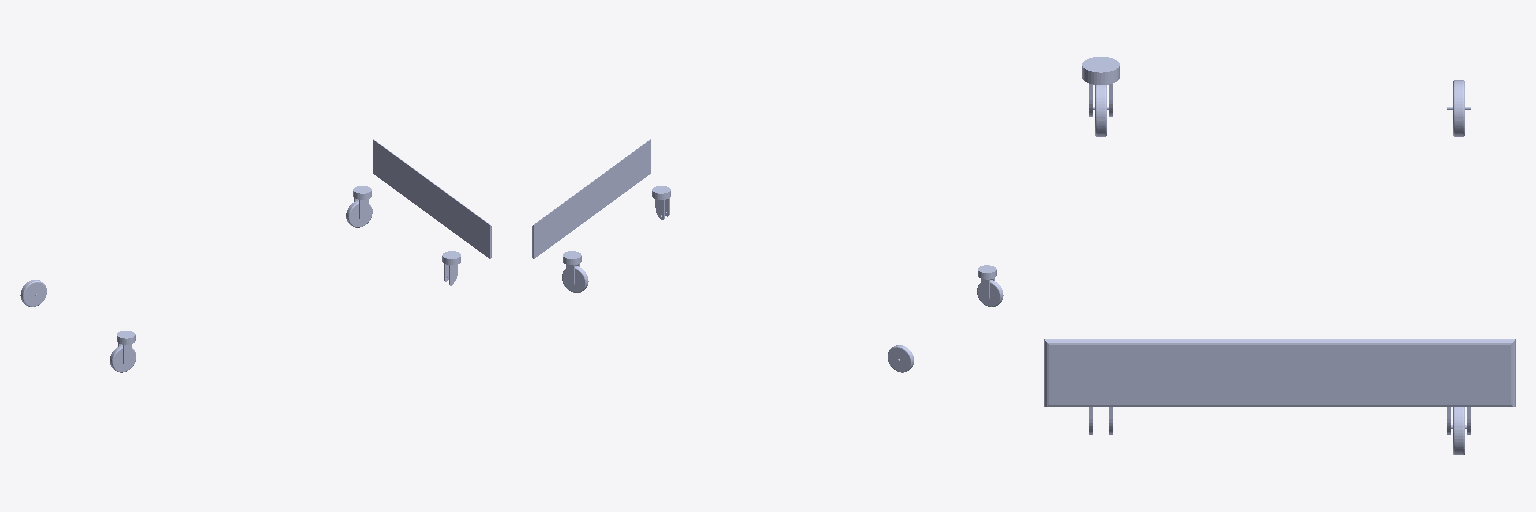
URDF robot description (agv6_varo):
<?xml version="1.0" encoding="utf-8"?>
<!-- This URDF was automatically created by SolidWorks to URDF Exporter! Originally created by [author] ([email redacted]) 
     Commit Version: 1.6.0-1-g15f4949  Build Version: 1.6.7594.29634
     For more information, please see http://wiki.ros.org/sw_urdf_exporter -->
<robot
  name="agv6_varo">
  <link
    name="base_link">
    <inertial>
      <origin
        xyz="0.0976887110638127 1.77635683940025E-15 -0.157720206093335"
        rpy="0 0 0" />
      <mass
        value="14.1869508369142" />
      <inertia
        ixx="0.588462273329024"
        ixy="-1.04590253472189E-08"
        ixz="0.0697327503182638"
        iyy="1.47677539724383"
        iyz="9.62796658784312E-10"
        izz="1.79873438535669" />
    </inertial>
    <visual>
      <origin
        xyz="0 0 0"
        rpy="0 0 0" />
      <geometry>
        <mesh
          filename="package://agv6_varo/meshes/base_link.STL" />
      </geometry>
      <material
        name="">
        <color
          rgba="0.792156862745098 0.819607843137255 0.933333333333333 1" />
      </material>
    </visual>
    <collision>
      <origin
        xyz="0 0 0"
        rpy="0 0 0" />
      <geometry>
        <mesh
          filename="package://agv6_varo/meshes/base_link.STL" />
      </geometry>
    </collision>
  </link>
  <link
    name="Left_Link">
    <inertial>
      <origin
        xyz="0 -0.016602338839462 -1.66533453693773E-16"
        rpy="0 0 0" />
      <mass
        value="0.52936994072617" />
      <inertia
        ixx="0.000772904303756457"
        ixy="-8.70667323830793E-20"
        ixz="-3.67109231972611E-34"
        iyy="0.0013878620871552"
        iyz="6.44417065836E-18"
        izz="0.000772904303756456" />
    </inertial>
    <visual>
      <origin
        xyz="0 0 0"
        rpy="0 0 0" />
      <geometry>
        <mesh
          filename="package://agv6_varo/meshes/Left_Link.STL" />
      </geometry>
      <material
        name="">
        <color
          rgba="0.792156862745098 0.819607843137255 0.933333333333333 1" />
      </material>
    </visual>
    <collision>
      <origin
        xyz="0 0 0"
        rpy="0 0 0" />
      <geometry>
        <mesh
          filename="package://agv6_varo/meshes/Left_Link.STL" />
      </geometry>
    </collision>
  </link>
  <joint
    name="Left_Joint"
    type="continuous">
    <origin
      xyz="0.110000000000006 0.229999999999991 -0.239999999999994"
      rpy="0 0 0" />
    <parent
      link="base_link" />
    <child
      link="Left_Link" />
    <axis
      xyz="0 1 0" />
  </joint>
  <link
    name="Right_Link">
    <inertial>
      <origin
        xyz="-5.55111512312578E-16 0.016602338839462 -4.49640324973188E-15"
        rpy="0 0 0" />
      <mass
        value="0.529369940726169" />
      <inertia
        ixx="0.000772904303756456"
        ixy="8.70716048896513E-20"
        ixz="1.91778702835882E-34"
        iyy="0.0013878620871552"
        iyz="2.16984719145409E-18"
        izz="0.000772904303756456" />
    </inertial>
    <visual>
      <origin
        xyz="0 0 0"
        rpy="0 0 0" />
      <geometry>
        <mesh
          filename="package://agv6_varo/meshes/Right_Link.STL" />
      </geometry>
      <material
        name="">
        <color
          rgba="0.792156862745098 0.819607843137255 0.933333333333333 1" />
      </material>
    </visual>
    <collision>
      <origin
        xyz="0 0 0"
        rpy="0 0 0" />
      <geometry>
        <mesh
          filename="package://agv6_varo/meshes/Right_Link.STL" />
      </geometry>
    </collision>
  </link>
  <joint
    name="Right_Joint"
    type="continuous">
    <origin
      xyz="0.110000000000006 -0.230000000000006 -0.239999999999996"
      rpy="0 0 0" />
    <parent
      link="base_link" />
    <child
      link="Right_Link" />
    <axis
      xyz="0 1 0" />
  </joint>
  <link
    name="LFcon_Link">
    <inertial>
      <origin
        xyz="-0.00121269193407092 0 -0.000415480513364208"
        rpy="0 0 0" />
      <mass
        value="0.0257521038737953" />
      <inertia
        ixx="8.61473826778216E-06"
        ixy="5.74914433529925E-21"
        ixz="-5.64302073523239E-07"
        iyy="8.11210346787568E-06"
        iyz="-2.41003008634718E-21"
        izz="4.80769500241318E-06" />
    </inertial>
    <visual>
      <origin
        xyz="0 0 0"
        rpy="0 0 0" />
      <geometry>
        <mesh
          filename="package://agv6_varo/meshes/LFcon_Link.STL" />
      </geometry>
      <material
        name="">
        <color
          rgba="0.792156862745098 0.819607843137255 0.933333333333333 1" />
      </material>
    </visual>
    <collision>
      <origin
        xyz="0 0 0"
        rpy="0 0 0" />
      <geometry>
        <mesh
          filename="package://agv6_varo/meshes/LFcon_Link.STL" />
      </geometry>
    </collision>
  </link>
  <joint
    name="LFcon_Joint"
    type="continuous">
    <origin
      xyz="0.560363870782178 0.190000000000007 -0.244999999999998"
      rpy="0 0 0" />
    <parent
      link="base_link" />
    <child
      link="LFcon_Link" />
    <axis
      xyz="0 0 1" />
  </joint>
  <link
    name="LF_Link">
    <inertial>
      <origin
        xyz="0 -0.00649999999999995 -5.55111512312578E-17"
        rpy="0 0 0" />
      <mass
        value="0.0364111988779923" />
      <inertia
        ixx="8.56927811367131E-06"
        ixy="3.75198100318771E-25"
        ixz="2.71591299799106E-37"
        iyy="1.61103246905048E-05"
        iyz="2.54747297031203E-20"
        izz="8.56927811367131E-06" />
    </inertial>
    <visual>
      <origin
        xyz="0 0 0"
        rpy="0 0 0" />
      <geometry>
        <mesh
          filename="package://agv6_varo/meshes/LF_Link.STL" />
      </geometry>
      <material
        name="">
        <color
          rgba="0.792156862745098 0.819607843137255 0.933333333333333 1" />
      </material>
    </visual>
    <collision>
      <origin
        xyz="0 0 0"
        rpy="0 0 0" />
      <geometry>
        <mesh
          filename="package://agv6_varo/meshes/LF_Link.STL" />
      </geometry>
    </collision>
  </link>
  <joint
    name="LF_Joint"
    type="continuous">
    <origin
      xyz="-0.00786387078217188 0.00649999999998607 -0.0400000000000009"
      rpy="0 0 0" />
    <parent
      link="LFcon_Link" />
    <child
      link="LF_Link" />
    <axis
      xyz="0 1 0" />
  </joint>
  <link
    name="RFcon_Link">
    <inertial>
      <origin
        xyz="-0.00121269193407114 -5.55111512312578E-17 -0.000415480513364208"
        rpy="0 0 0" />
      <mass
        value="0.0257521038737953" />
      <inertia
        ixx="8.61473826778217E-06"
        ixy="5.33540318368168E-21"
        ixz="-5.6430207352324E-07"
        iyy="8.11210346787568E-06"
        iyz="-1.91553632751115E-21"
        izz="4.80769500241318E-06" />
    </inertial>
    <visual>
      <origin
        xyz="0 0 0"
        rpy="0 0 0" />
      <geometry>
        <mesh
          filename="package://agv6_varo/meshes/RFcon_Link.STL" />
      </geometry>
      <material
        name="">
        <color
          rgba="0.792156862745098 0.819607843137255 0.933333333333333 1" />
      </material>
    </visual>
    <collision>
      <origin
        xyz="0 0 0"
        rpy="0 0 0" />
      <geometry>
        <mesh
          filename="package://agv6_varo/meshes/RFcon_Link.STL" />
      </geometry>
    </collision>
  </link>
  <joint
    name="RFcon_Joint"
    type="continuous">
    <origin
      xyz="0.560363870782182 -0.189999999999993 -0.244999999999998"
      rpy="0 0 0" />
    <parent
      link="base_link" />
    <child
      link="RFcon_Link" />
    <axis
      xyz="0 0 1" />
  </joint>
  <link
    name="RF_Link">
    <inertial>
      <origin
        xyz="0 0.00650000000000001 0"
        rpy="0 0 0" />
      <mass
        value="0.0364111988779923" />
      <inertia
        ixx="8.56927811367131E-06"
        ixy="1.67531682123137E-26"
        ixz="1.40097792434919E-38"
        iyy="1.61103246905048E-05"
        iyz="2.54747297031203E-20"
        izz="8.56927811367131E-06" />
    </inertial>
    <visual>
      <origin
        xyz="0 0 0"
        rpy="0 0 0" />
      <geometry>
        <mesh
          filename="package://agv6_varo/meshes/RF_Link.STL" />
      </geometry>
      <material
        name="">
        <color
          rgba="0.792156862745098 0.819607843137255 0.933333333333333 1" />
      </material>
    </visual>
    <collision>
      <origin
        xyz="0 0 0"
        rpy="0 0 0" />
      <geometry>
        <mesh
          filename="package://agv6_varo/meshes/RF_Link.STL" />
      </geometry>
    </collision>
  </link>
  <joint
    name="RF_Joint"
    type="continuous">
    <origin
      xyz="-0.00786387078217587 -0.00650000000001394 -0.0400000000000023"
      rpy="0 0 0" />
    <parent
      link="RFcon_Link" />
    <child
      link="RF_Link" />
    <axis
      xyz="0 1 0" />
  </joint>
  <link
    name="LBcon_Link">
    <inertial>
      <origin
        xyz="-0.00121269193407098 0 -0.000415480513364208"
        rpy="0 0 0" />
      <mass
        value="0.0257521038737953" />
      <inertia
        ixx="8.6147382677822E-06"
        ixy="4.01804975449147E-21"
        ixz="-5.64302073523249E-07"
        iyy="8.11210346787572E-06"
        iyz="-1.01632154557052E-20"
        izz="4.80769500241318E-06" />
    </inertial>
    <visual>
      <origin
        xyz="0 0 0"
        rpy="0 0 0" />
      <geometry>
        <mesh
          filename="package://agv6_varo/meshes/LBcon_Link.STL" />
      </geometry>
      <material
        name="">
        <color
          rgba="0.792156862745098 0.819607843137255 0.933333333333333 1" />
      </material>
    </visual>
    <collision>
      <origin
        xyz="0 0 0"
        rpy="0 0 0" />
      <geometry>
        <mesh
          filename="package://agv6_varo/meshes/LBcon_Link.STL" />
      </geometry>
    </collision>
  </link>
  <joint
    name="LBcon_Joint"
    type="continuous">
    <origin
      xyz="-0.239636129217822 0.189999999999999 -0.245000000000001"
      rpy="0 0 0" />
    <parent
      link="base_link" />
    <child
      link="LBcon_Link" />
    <axis
      xyz="0 0 1" />
  </joint>
  <link
    name="LB_Link">
    <inertial>
      <origin
        xyz="0 -0.00649999999999995 0"
        rpy="0 0 0" />
      <mass
        value="0.0364111988779923" />
      <inertia
        ixx="8.56927811367131E-06"
        ixy="-3.41691763893479E-25"
        ixz="1.40097792434932E-38"
        iyy="1.61103246905048E-05"
        iyz="2.54747297031203E-20"
        izz="8.56927811367131E-06" />
    </inertial>
    <visual>
      <origin
        xyz="0 0 0"
        rpy="0 0 0" />
      <geometry>
        <mesh
          filename="package://agv6_varo/meshes/LB_Link.STL" />
      </geometry>
      <material
        name="">
        <color
          rgba="0.792156862745098 0.819607843137255 0.933333333333333 1" />
      </material>
    </visual>
    <collision>
      <origin
        xyz="0 0 0"
        rpy="0 0 0" />
      <geometry>
        <mesh
          filename="package://agv6_varo/meshes/LB_Link.STL" />
      </geometry>
    </collision>
  </link>
  <joint
    name="LB_Joint"
    type="continuous">
    <origin
      xyz="-0.00786387078217188 0.00649999999999451 -0.0399999999999985"
      rpy="0 0 0" />
    <parent
      link="LBcon_Link" />
    <child
      link="LB_Link" />
    <axis
      xyz="0 -1 0" />
  </joint>
  <link
    name="RBcon_Link">
    <inertial>
      <origin
        xyz="-0.00121269193407103 0 -0.000415480513364208"
        rpy="0 0 0" />
      <mass
        value="0.0257521038737953" />
      <inertia
        ixx="8.61473826778216E-06"
        ixy="3.62531542895807E-21"
        ixz="-5.64302073523249E-07"
        iyy="8.11210346787568E-06"
        iyz="-1.08923608136537E-20"
        izz="4.80769500241318E-06" />
    </inertial>
    <visual>
      <origin
        xyz="0 0 0"
        rpy="0 0 0" />
      <geometry>
        <mesh
          filename="package://agv6_varo/meshes/RBcon_Link.STL" />
      </geometry>
      <material
        name="">
        <color
          rgba="0.792156862745098 0.819607843137255 0.933333333333333 1" />
      </material>
    </visual>
    <collision>
      <origin
        xyz="0 0 0"
        rpy="0 0 0" />
      <geometry>
        <mesh
          filename="package://agv6_varo/meshes/RBcon_Link.STL" />
      </geometry>
    </collision>
  </link>
  <joint
    name="RBcon_Joint"
    type="continuous">
    <origin
      xyz="-0.239636129217818 -0.190000000000001 -0.245000000000001"
      rpy="0 0 0" />
    <parent
      link="base_link" />
    <child
      link="RBcon_Link" />
    <axis
      xyz="0 0 1" />
  </joint>
  <link
    name="RB_Link">
    <inertial>
      <origin
        xyz="0 0.00650000000000001 0"
        rpy="0 0 0" />
      <mass
        value="0.0364111988779923" />
      <inertia
        ixx="8.56927811367131E-06"
        ixy="1.67531682123109E-26"
        ixz="2.71591299799105E-37"
        iyy="1.61103246905048E-05"
        iyz="2.54747297031203E-20"
        izz="8.56927811367131E-06" />
    </inertial>
    <visual>
      <origin
        xyz="0 0 0"
        rpy="0 0 0" />
      <geometry>
        <mesh
          filename="package://agv6_varo/meshes/RB_Link.STL" />
      </geometry>
      <material
        name="">
        <color
          rgba="0.792156862745098 0.819607843137255 0.933333333333333 1" />
      </material>
    </visual>
    <collision>
      <origin
        xyz="0 0 0"
        rpy="0 0 0" />
      <geometry>
        <mesh
          filename="package://agv6_varo/meshes/RB_Link.STL" />
      </geometry>
    </collision>
  </link>
  <joint
    name="RB_Joint"
    type="continuous">
    <origin
      xyz="-0.00786387078217587 -0.00650000000000545 -0.0399999999999999"
      rpy="0 0 0" />
    <parent
      link="RBcon_Link" />
    <child
      link="RB_Link" />
    <axis
      xyz="0 -1 0" />
  </joint>
  <link
    name="Sensor_Link">
    <inertial>
      <origin
        xyz="-0.00254436416091663 -8.32667268468867E-15 -4.9960036108132E-16"
        rpy="0 0 0" />
      <mass
        value="0.193830128132172" />
      <inertia
        ixx="0.00410299707197696"
        ixy="-1.44297382400964E-18"
        ixz="5.47904290451065E-20"
        iyy="9.85671925445419E-05"
        iyz="1.62556294831296E-10"
        izz="0.00400522777358793" />
    </inertial>
    <visual>
      <origin
        xyz="0 0 0"
        rpy="0 0 0" />
      <geometry>
        <mesh
          filename="package://agv6_varo/meshes/Sensor_Link.STL" />
      </geometry>
      <material
        name="">
        <color
          rgba="0.792156862745098 0.819607843137255 0.933333333333333 1" />
      </material>
    </visual>
    <collision>
      <origin
        xyz="0 0 0"
        rpy="0 0 0" />
      <geometry>
        <mesh
          filename="package://agv6_varo/meshes/Sensor_Link.STL" />
      </geometry>
    </collision>
  </link>
  <joint
    name="Sensor_Joint"
    type="fixed">
    <origin
      xyz="0.625000000000006 0 -0.19"
      rpy="0 0 0" />
    <parent
      link="base_link" />
    <child
      link="Sensor_Link" />
    <axis
      xyz="0 0 0" />
  </joint>
  <gazebo reference="Sensor_Link">
    <sensor type="ray" name="laser">
        <pose>0 0 0 0 0 0</pose>
        <visualize>true</visualize>
        <update_rate>40</update_rate>
        <ray>
            <scan>
                <horizontal>
                    <samples>720</samples>
                    <resolution>1</resolution>
                    <min_angle>-1.578</min_angle>
                    <max_angle>1.578</max_angle>
                </horizontal>
            </scan>
            <range>
                <min>0.1</min>
                <max>10</max>
                <resolution>0.1</resolution>
            </range>
        </ray>
        <plugin name="Lidar" filename="libgazebo_ros_laser.so">
            <topicName>/scan</topicName>
            <frameName>Sensor_Link</frameName>
        </plugin>
    </sensor>
</gazebo>
  <gazebo>
    <plugin name="controller"   filename="libgazebo_ros_diff_drive.so">
        <leftJoint>Left_Joint</leftJoint>
        <rightJoint>Right_Joint</rightJoint>
        <legacyMode>false</legacyMode>
        <robotBaseFrame>base_link</robotBaseFrame>
        <wheelSeparation>0.4</wheelSeparation>
        <wheelDiameter>0.15</wheelDiameter>
        <publishWheelJointState>true</publishWheelJointState>
    </plugin>
    
</gazebo>
   <gazebo>
    <plugin name="joint_state_publisher"
            filename="libgazebo_ros_joint_state_publisher.so">
        <jointName>LF_Joint, RF_Joint, LB_Joint, RB_Joint, RFcon_Joint, RBcon_Joint, LFcon_Joint, LBcon_Joint</jointName>
    </plugin>
</gazebo>
</robot>

--- Render facts (derived) ---
Views: 3 orthographic renders of the robot side by side, from view 1: azimuth 30°, elevation 25°; view 2: azimuth 150°, elevation 25°; view 3: azimuth 270°, elevation 25°.
Model agv6_varo with 12 links and 11 joints (10 continuous, 1 fixed), rooted at base_link, posed every joint at zero.
Visible links, largest first — view 1: Sensor_Link, LB_Link; view 2: Sensor_Link, LB_Link; view 3: Sensor_Link, RBcon_Link, LB_Link, RB_Link, LF_Link.
Link boxes in pixels (bbox=[...]): Sensor_Link: bbox=[373, 139, 491, 258]; LB_Link: bbox=[20, 280, 46, 306]; Sensor_Link: bbox=[532, 139, 650, 258]; LB_Link: bbox=[888, 345, 913, 372]; Sensor_Link: bbox=[1044, 339, 1515, 406]; RBcon_Link: bbox=[1082, 57, 1119, 116]; LB_Link: bbox=[1447, 80, 1470, 136]; RB_Link: bbox=[1093, 85, 1108, 136]; LF_Link: bbox=[1451, 407, 1466, 454].
Size in the robot's own frame: 0.9025 by 0.5 by 0.1649 metres.
Meshes: 12 distinct files referenced, 7 mesh visuals loaded (7 binary STL); not drawn: 5 (reference not matched to a file when rendering).
